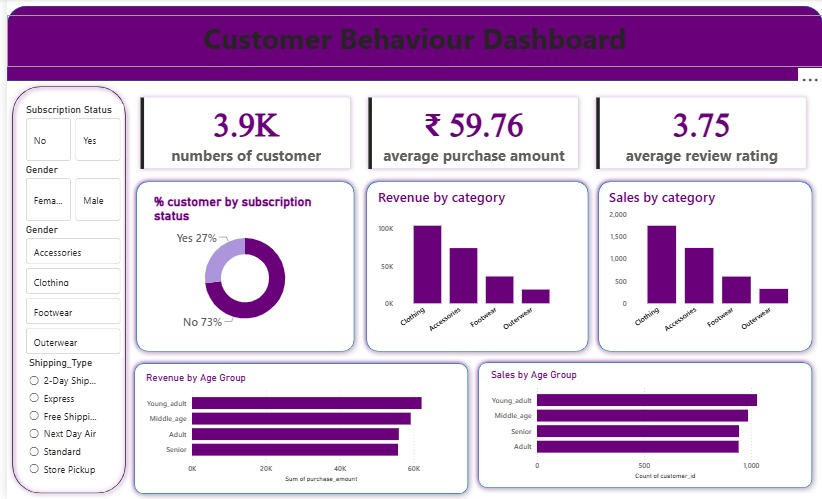

Layout of this report page (visuals, bound fields, positions):
{"tool":"powerbi","page":{"name":"Page 1","canvas":[1383,847],"ordinal":0},"visuals":[{"type":"cardVisual","fields":{"Data":["shireen customer_shopping_behavior.numbers_of_customer","shireen customer_shopping_behavior.average_purchase_amount","shireen customer_shopping_behavior.average_review_rating"]},"box":[198,139.4,1184.4,177.3],"z":0},{"type":"shape","box":[0,12.1,1382.4,127.4],"z":1000},{"type":"textbox","box":[0,27.5,1382.4,87.8],"z":2000},{"type":"shape","box":[210,299.5,387.3,306.4],"z":3000},{"type":"donutChart","title":"% customer by  subscription status","fields":{"Category":["shireen customer_shopping_behavior.subscription_status"],"Y":["CountNonNull(shireen customer_shopping_behavior.customer_id)"]},"box":[244.5,330.5,318.5,237.6],"z":4000},{"type":"shape","box":[599.1,299.5,394.2,306.4],"z":5000},{"type":"shape","box":[993.3,299.5,380.5,306.4],"z":6000},{"type":"clusteredColumnChart","title":"Revenue by category","fields":{"Y":["Sum(shireen customer_shopping_behavior.purchase_amount)"],"Category":["shireen customer_shopping_behavior.category"]},"box":[623.2,320.2,327.1,263.4],"z":7000},{"type":"clusteredColumnChart","title":"Sales by category","fields":{"Category":["shireen customer_shopping_behavior.category"],"Y":["CountNonNull(shireen customer_shopping_behavior.customer_id)"]},"box":[1014,320.2,340.9,263.4],"z":8000},{"type":"shape","box":[0,139.4,210,707.6],"z":9000},{"type":"advancedSlicerVisual","fields":{"Values":["shireen customer_shopping_behavior.subscription_status"]},"box":[27.5,177.3,170.4,101.6],"z":10000},{"type":"advancedSlicerVisual","title":"Gender","fields":{"Values":["shireen customer_shopping_behavior.gender"]},"box":[27.5,278.9,170.4,101.6],"z":11000},{"type":"advancedSlicerVisual","title":"Gender","fields":{"Values":["shireen customer_shopping_behavior.category"]},"box":[27.5,380.5,170.4,225.5],"z":12000},{"type":"listSlicer","title":"Shipping_Type","fields":{"Values":["shireen customer_shopping_behavior.shipping_type"]},"box":[32.7,606,144.6,211.8],"z":13000},{"type":"shape","box":[206.6,607.7,583.6,239.3],"z":14000},{"type":"shape","box":[790.2,606,583.6,230.7],"z":15000},{"type":"clusteredBarChart","title":"Sales by Age Group","fields":{"Category":["shireen customer_shopping_behavior.age_group"],"Y":["CountNonNull(shireen customer_shopping_behavior.customer_id)"]},"box":[814.3,626.6,537.1,191.1],"z":16000},{"type":"clusteredBarChart","title":"Revenue by Age Group","fields":{"Category":["shireen customer_shopping_behavior.age_group"],"Y":["Sum(shireen customer_shopping_behavior.purchase_amount)"]},"box":[230.7,631.8,537.1,191.1],"z":17000}]}

Visuals, with their boxes in screenshot pixels (x1, y1, x2, y2), scaled from the page's 1383x847 canvas onto the 822x499 screenshot:
cardVisual - shireen customer_shopping_behavior.numbers_of_customer x shireen customer_shopping_behavior.average_purchase_amount: l=118, t=82, r=821, b=187
shape: l=0, t=7, r=821, b=82
textbox: l=0, t=16, r=821, b=68
shape: l=125, t=176, r=355, b=357
"% customer by  subscription status" donutChart: l=145, t=195, r=335, b=335
shape: l=356, t=176, r=590, b=357
shape: l=590, t=176, r=817, b=357
"Revenue by category" clusteredColumnChart: l=370, t=189, r=565, b=344
"Sales by category" clusteredColumnChart: l=603, t=189, r=805, b=344
shape: l=0, t=82, r=125, b=498
advancedSlicerVisual - shireen customer_shopping_behavior.subscription_status: l=16, t=104, r=118, b=164
"Gender" advancedSlicerVisual: l=16, t=164, r=118, b=224
"Gender" advancedSlicerVisual: l=16, t=224, r=118, b=357
"Shipping_Type" listSlicer: l=19, t=357, r=105, b=482
shape: l=123, t=358, r=470, b=498
shape: l=470, t=357, r=817, b=493
"Sales by Age Group" clusteredBarChart: l=484, t=369, r=803, b=482
"Revenue by Age Group" clusteredBarChart: l=137, t=372, r=456, b=485
